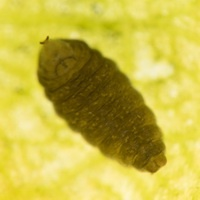insect: (38, 38, 165, 172)
